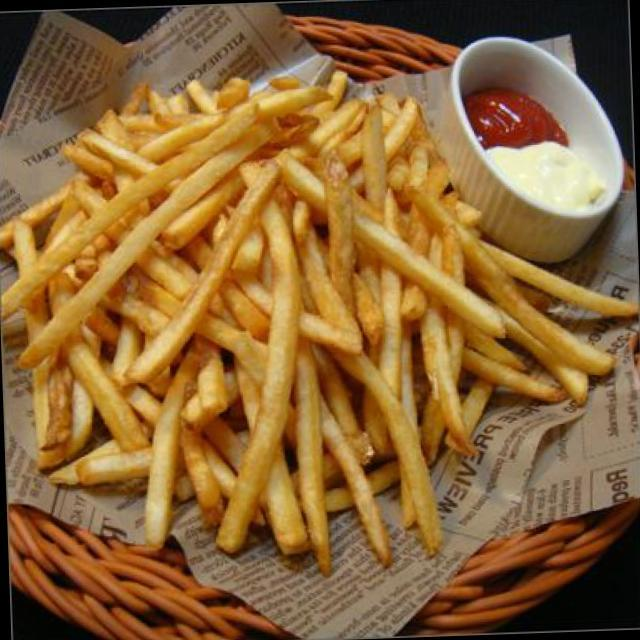French Fries: (6, 72, 468, 546)
